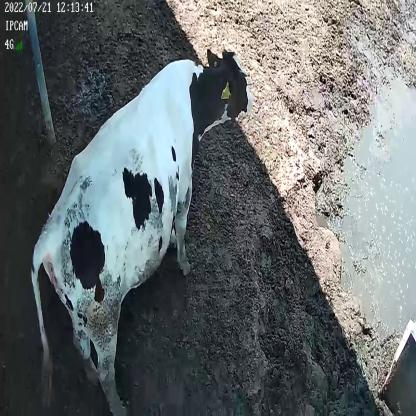cow: (28, 45, 255, 416)
